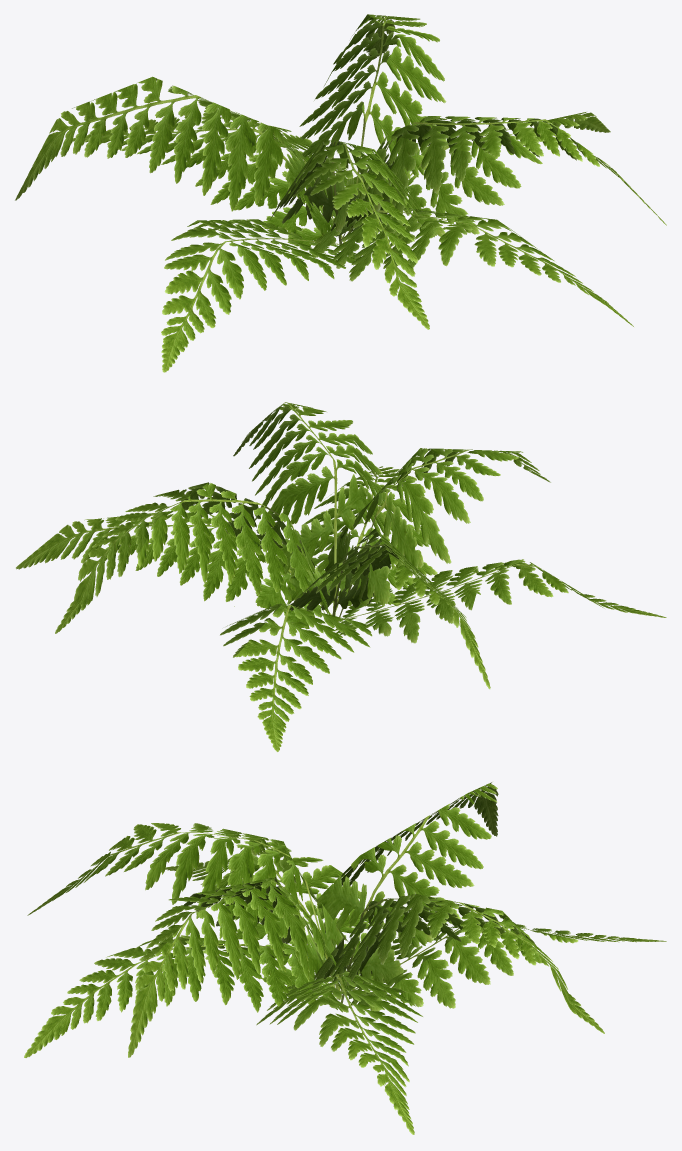
The model's file is fern.glb.
3 views of the same model, one above another, from view 1: azimuth 30°, elevation 25°; view 2: azimuth 150°, elevation 25°; view 3: azimuth 270°, elevation 25° (orthographic). The views are drawn at different scales.
Visible parts, largest first — view 1: 3_paporotnik_0; view 2: 3_paporotnik_0; view 3: 3_paporotnik_0.
Boxes of the visible parts, x1,y1,x2,y2 form: 3_paporotnik_0: (15, 14, 666, 372); 3_paporotnik_0: (16, 402, 666, 751); 3_paporotnik_0: (24, 782, 666, 1134).
Bounding box in the file's own units: 2.26 × 0.6146 × 2.21.
1 material, 1 textured.
